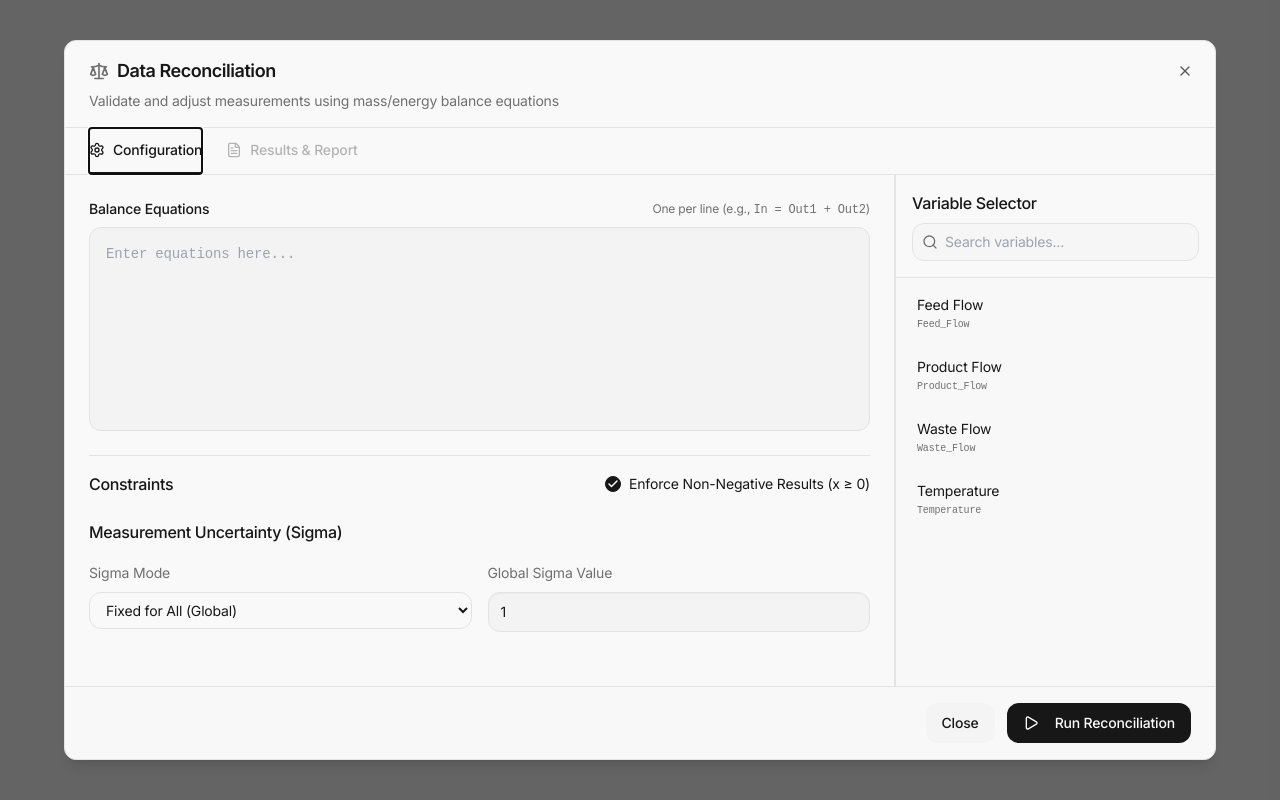
Test: ReconciliationModal › shows error message when reconciliation fails
Click the button "Run Reconciliation".
click(1099, 723)  # box [1007,703,1191,743]
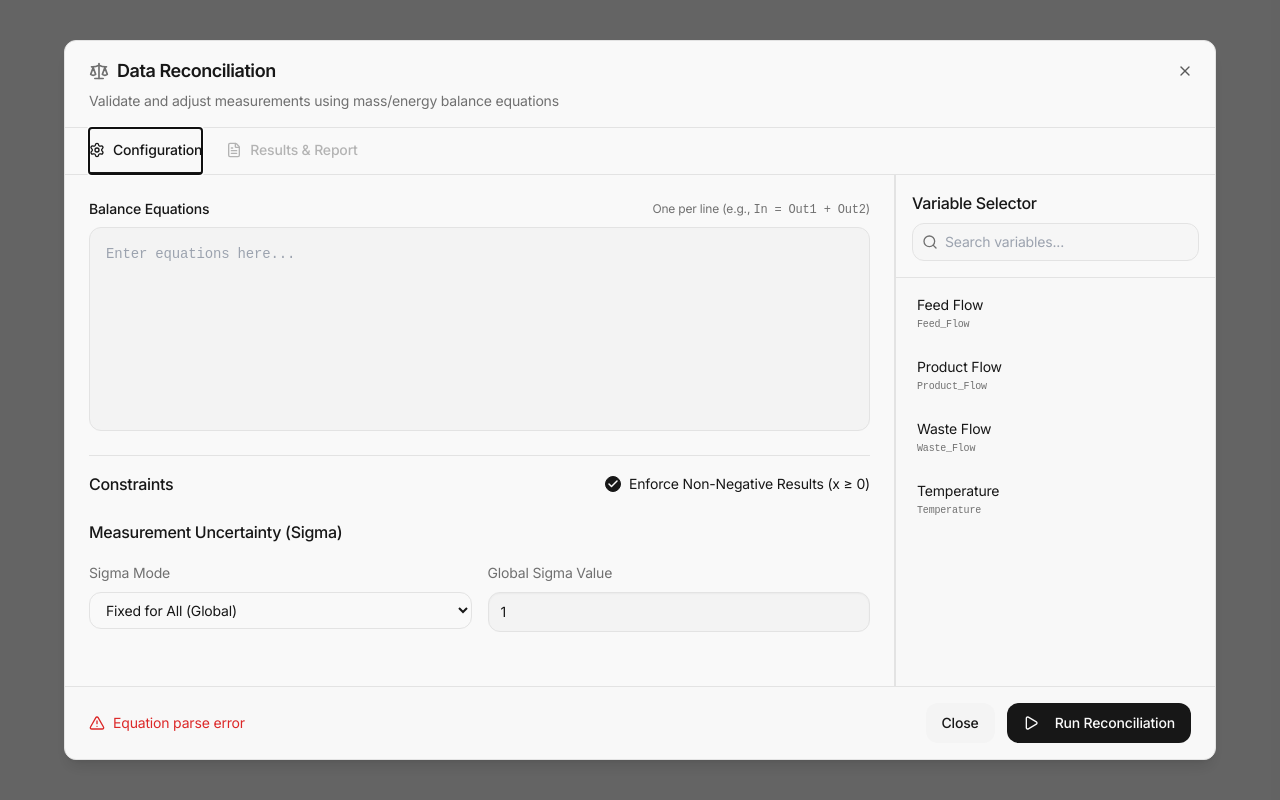
Check: the text "Equation parse error" is shown, box [89,714,245,731]
